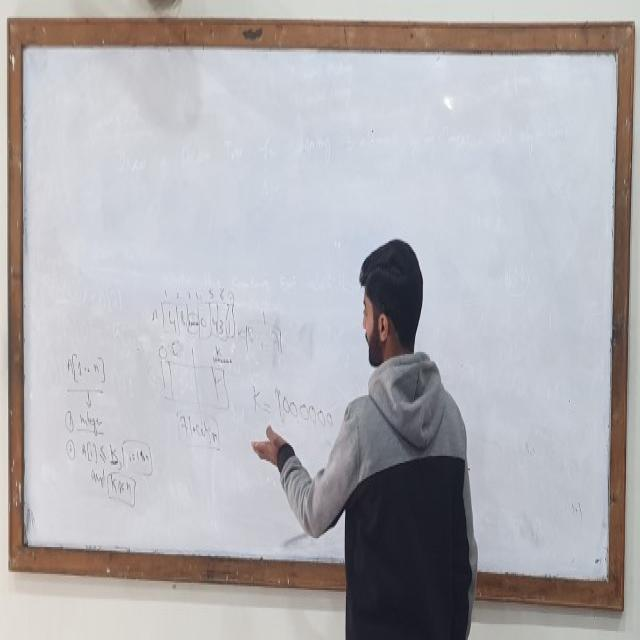Instructor: (334, 232, 480, 640)
White-board: (15, 32, 626, 602)
